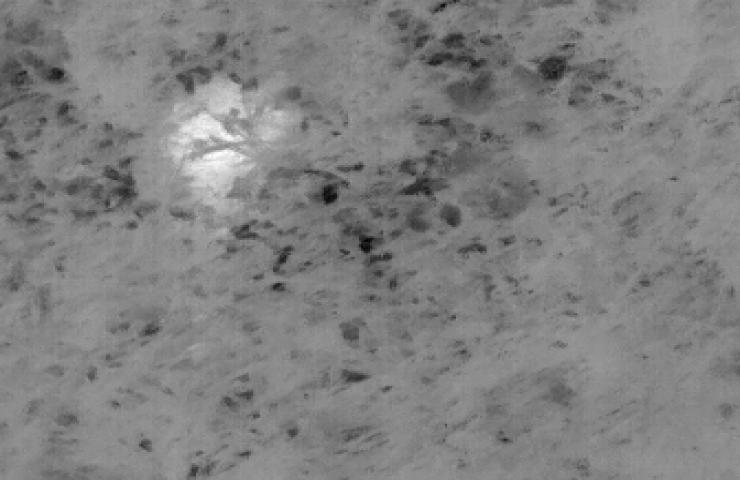landmines: (167, 75, 301, 196)
